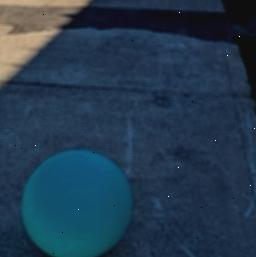algae: (20, 147, 131, 257)
